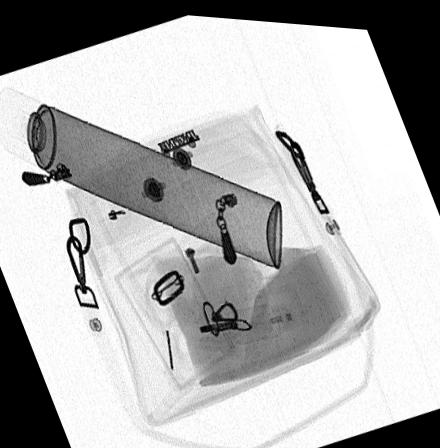Sprayer: (0, 88, 282, 264)
